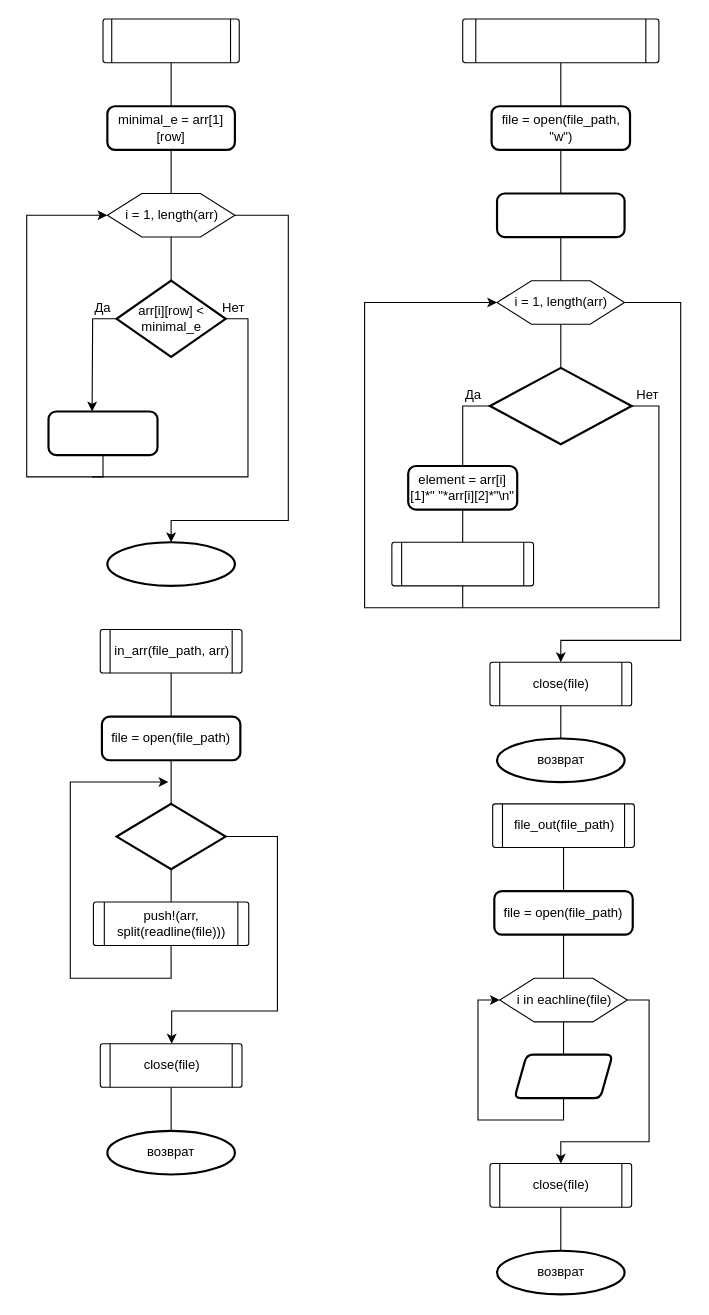
Image size: 709x1315. Some labels were removed from this diagram. Here are the shapes that lost their labels. From the top down, the box of each, then its label:
(102, 18, 239, 63): find_minimal(arr, row)
(462, 18, 659, 63): find_ancient_town(file_path, arr)
(495, 192, 625, 238): minimal_year = find_minimal(arr, 2)
(488, 366, 632, 445): arr[i][2] == minimal_year
(47, 410, 158, 456): minimal_e = arr[i][row]
(106, 541, 235, 586): return minimal_e
(391, 541, 534, 586): write(file, element)
(115, 802, 226, 870): !eof(file)
(513, 1053, 613, 1099): вывод: i
